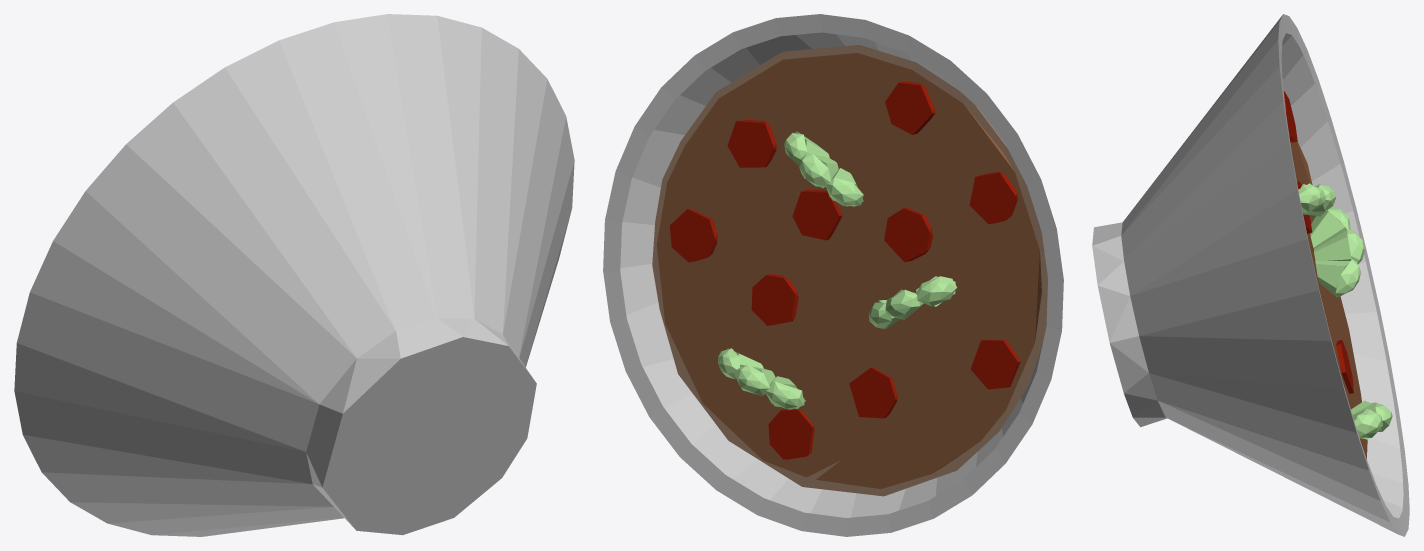
Rendered from food_4_laksa.fbx.
3 views of the same model, side by side, from view 1: azimuth 30°, elevation 25°; view 2: azimuth 150°, elevation 25°; view 3: azimuth 270°, elevation 25° (orthographic). The views are drawn at different scales.
Visible parts, largest first — view 1: food_laksa; view 2: food_laksa; view 3: food_laksa.
Boxes of the visible parts, box(x1,y1,x2,y2) form: food_laksa: box(14, 14, 574, 536); food_laksa: box(603, 14, 1063, 536); food_laksa: box(1092, 14, 1409, 536).
Size of the model in its own units: 105 by 102 by 62.19.
